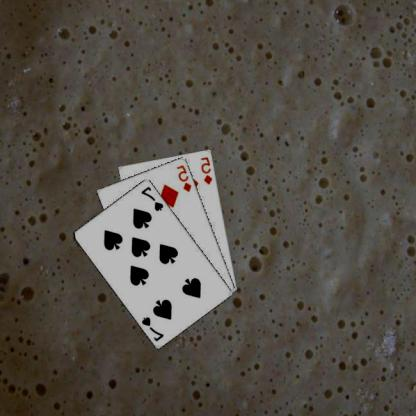5D: (176, 162, 195, 193), (200, 154, 216, 186)
7S: (140, 183, 166, 213), (141, 314, 167, 342)
